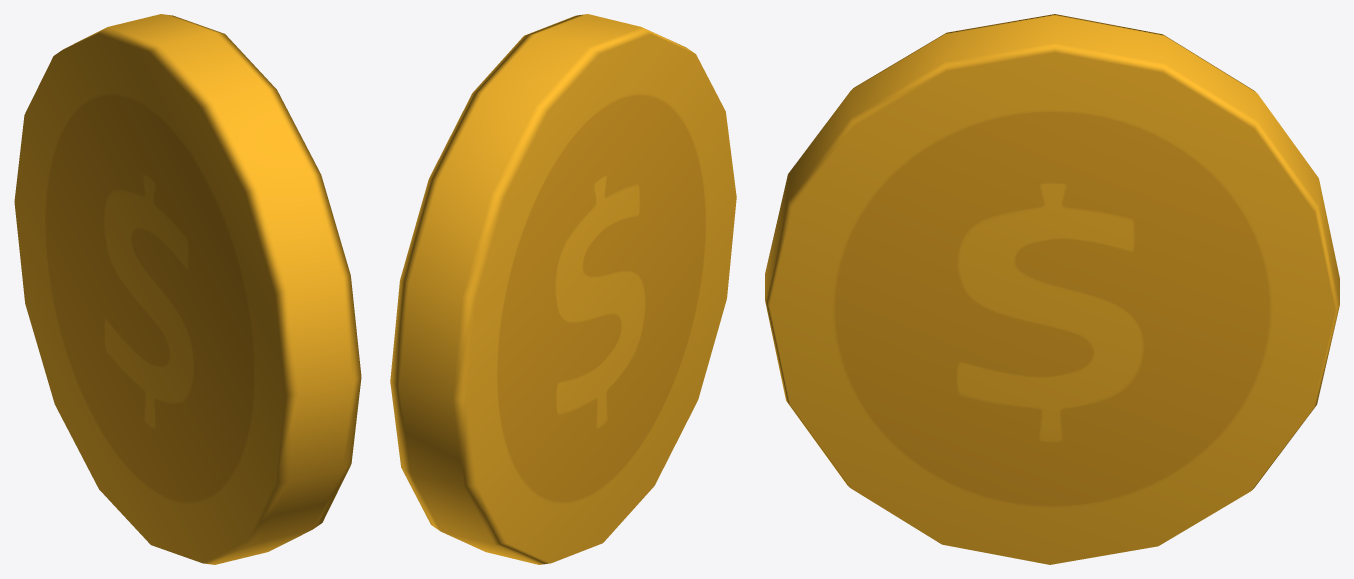
File: Coin.fbx
3 views of the same model, side by side, from view 1: azimuth 30°, elevation 25°; view 2: azimuth 150°, elevation 25°; view 3: azimuth 270°, elevation 25° (orthographic). The views are drawn at different scales.
Parts seen in each view (by area): view 1: Coin_16; view 2: Coin_16; view 3: Coin_16.
Part boxes in pixels (bbox=[...]): Coin_16: bbox=[14, 14, 361, 564]; Coin_16: bbox=[390, 14, 736, 564]; Coin_16: bbox=[765, 14, 1339, 564].
Bounding box in the file's own units: 27.79 × 173 × 173.
1 material, 1 textured.
